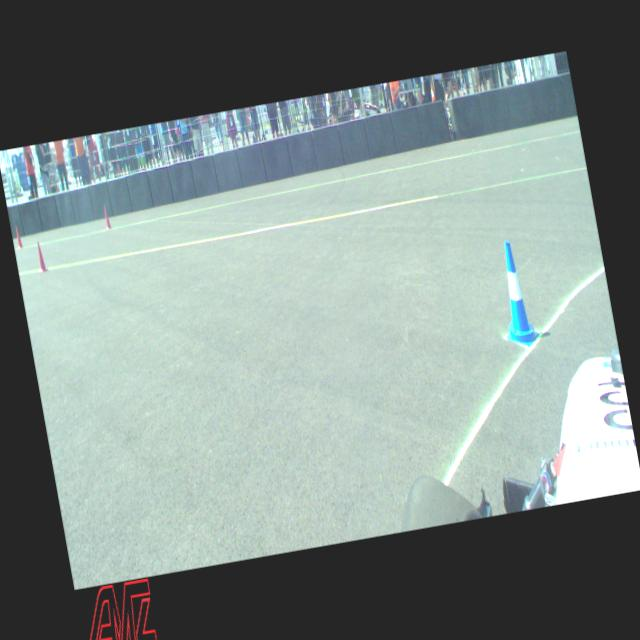blue_cone: (490, 238, 540, 349)
unknown_cone: (34, 240, 48, 272), (102, 204, 112, 228), (14, 225, 24, 248)
